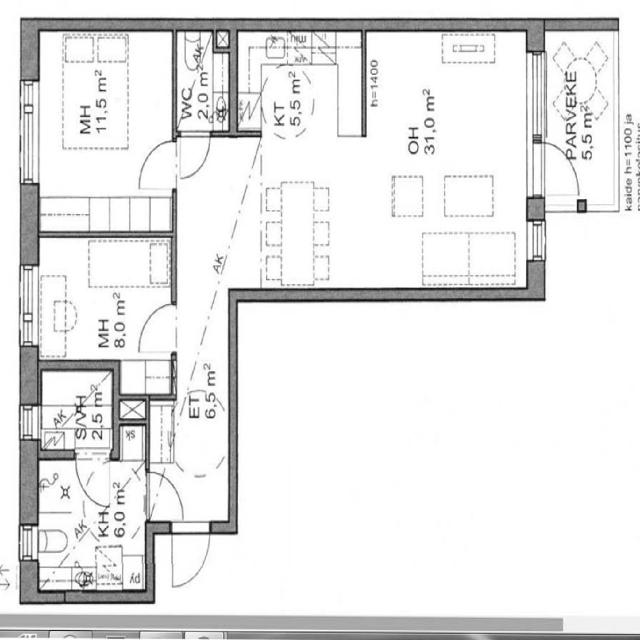door: (30, 453, 150, 594), (532, 133, 586, 208), (164, 518, 216, 592), (134, 294, 182, 360), (132, 134, 178, 197), (142, 468, 188, 522), (72, 448, 111, 509), (174, 126, 213, 181)
window: (14, 73, 44, 195), (524, 42, 549, 144), (16, 256, 42, 354), (16, 396, 42, 446)
zone: (356, 23, 530, 311), (30, 29, 175, 234), (252, 38, 363, 296), (30, 233, 179, 375), (33, 458, 149, 594), (232, 34, 366, 138), (37, 365, 116, 457), (174, 24, 232, 134), (115, 394, 148, 450)
